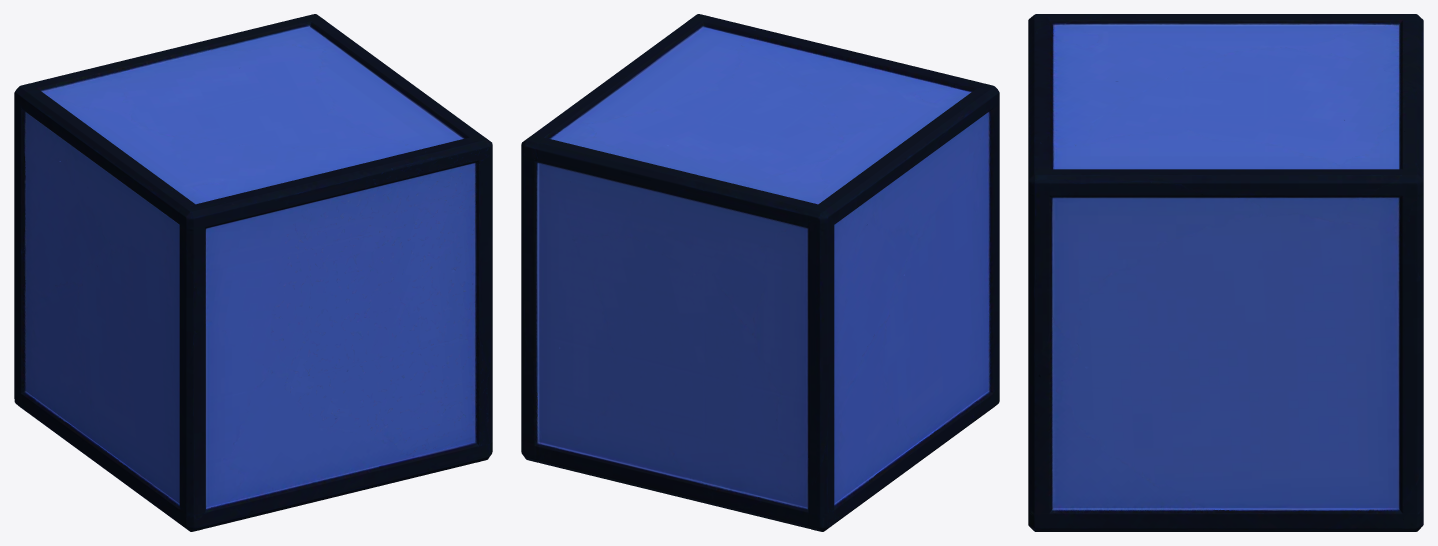
The model's file is cuadrado3d3.glb.
The picture shows the model from 3 angles, left to right: view 1: azimuth 30°, elevation 25°; view 2: azimuth 150°, elevation 25°; view 3: azimuth 270°, elevation 25°; orthographic projection. The views are drawn at different scales.
Visible parts, largest first — view 1: Object_4; view 2: Object_4; view 3: Object_4.
Part boxes in pixels (x1,y1,x2,y2): Object_4: (14,14,492,531); Object_4: (521,14,999,531); Object_4: (1028,14,1423,531).
Size of the model in its own units: 0.7076 by 0.7066 by 0.7097.
1 material, 1 textured.
